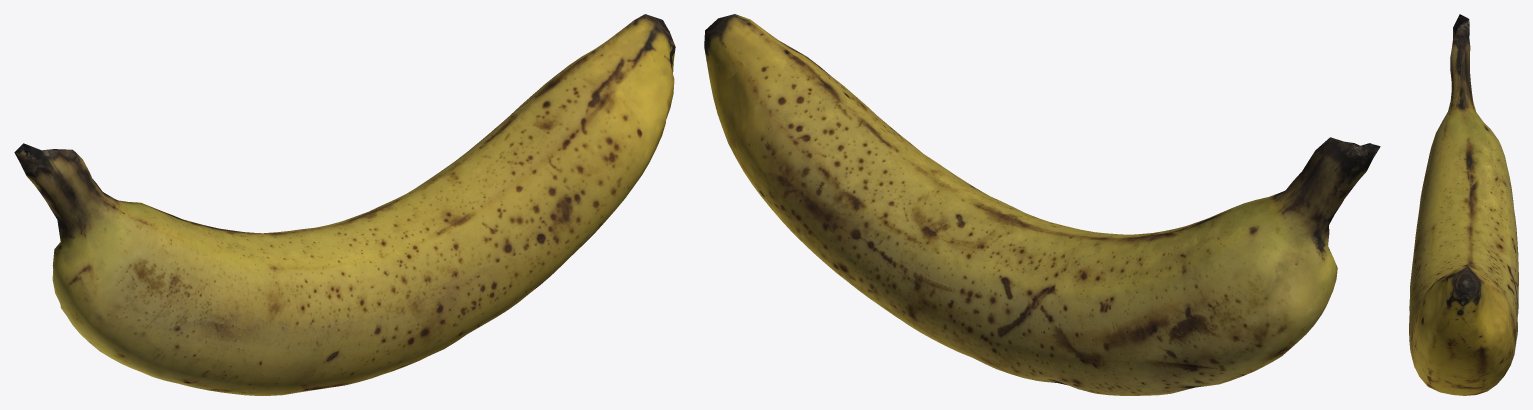
Rendered from Banana.glb.
3 views of the same model, side by side, from view 1: azimuth 30°, elevation 25°; view 2: azimuth 150°, elevation 25°; view 3: azimuth 270°, elevation 25° (orthographic). The views are drawn at different scales.
Parts seen in each view (by area): view 1: Object_2; view 2: Object_2; view 3: Object_2.
Boxes of the visible parts, left/top/right/bottom form: Object_2: left=14, top=14, right=675, bottom=395; Object_2: left=704, top=14, right=1380, bottom=395; Object_2: left=1409, top=14, right=1518, bottom=395.
Size of the model in its own units: 1.38 by 0.61 by 0.2603.
1 material, 1 textured.
